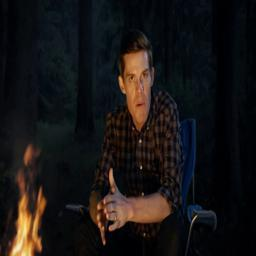fire: (7, 145, 45, 256)
